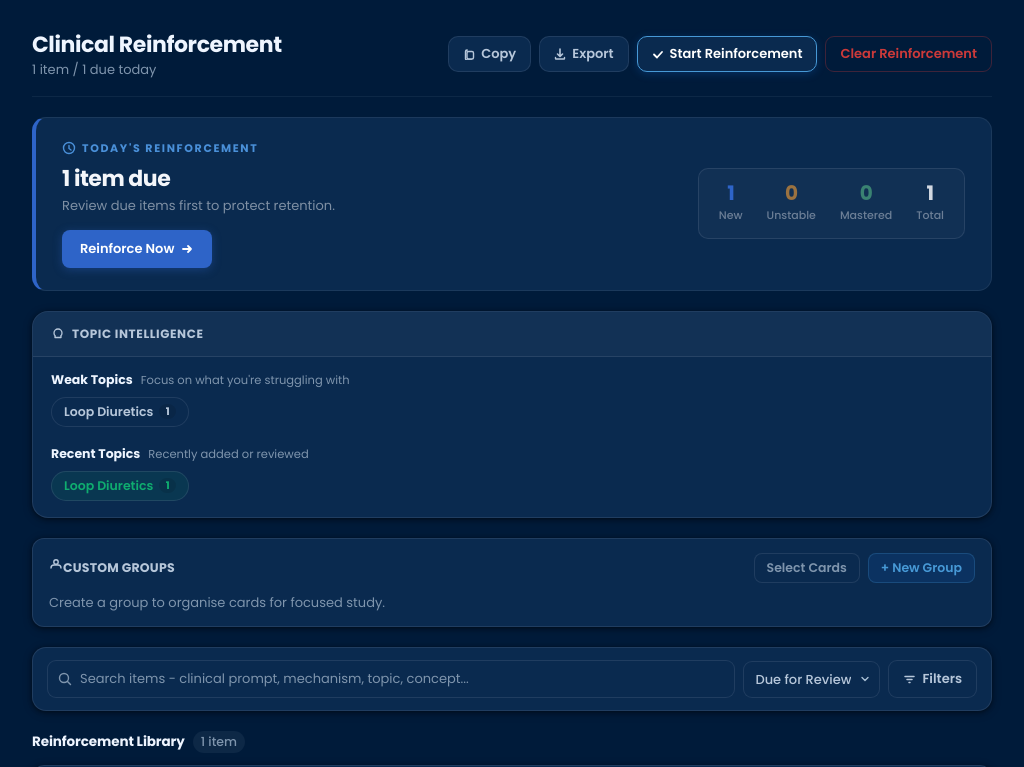
it: FlashcardsPage - ease buttons after reveal › shows "Core Mechanism" answer label
Click the button "Reinforce Now": (137, 249) [62,230,212,268]
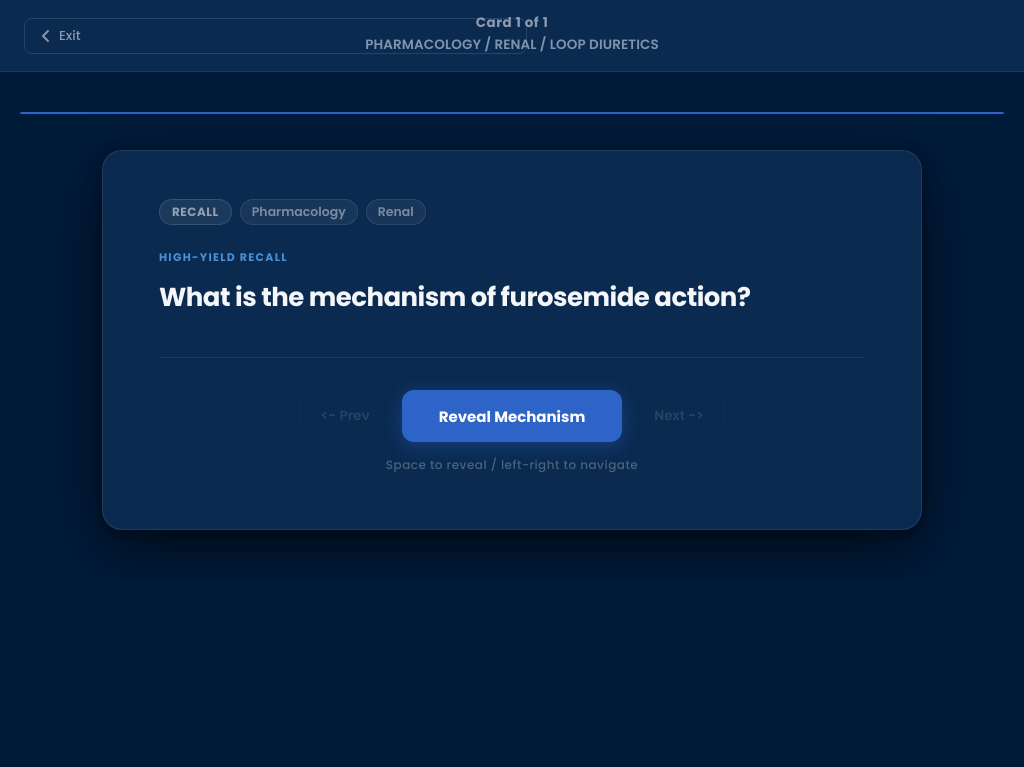
Click the button "Reveal Mechanism": (512, 416) [402,390,622,442]
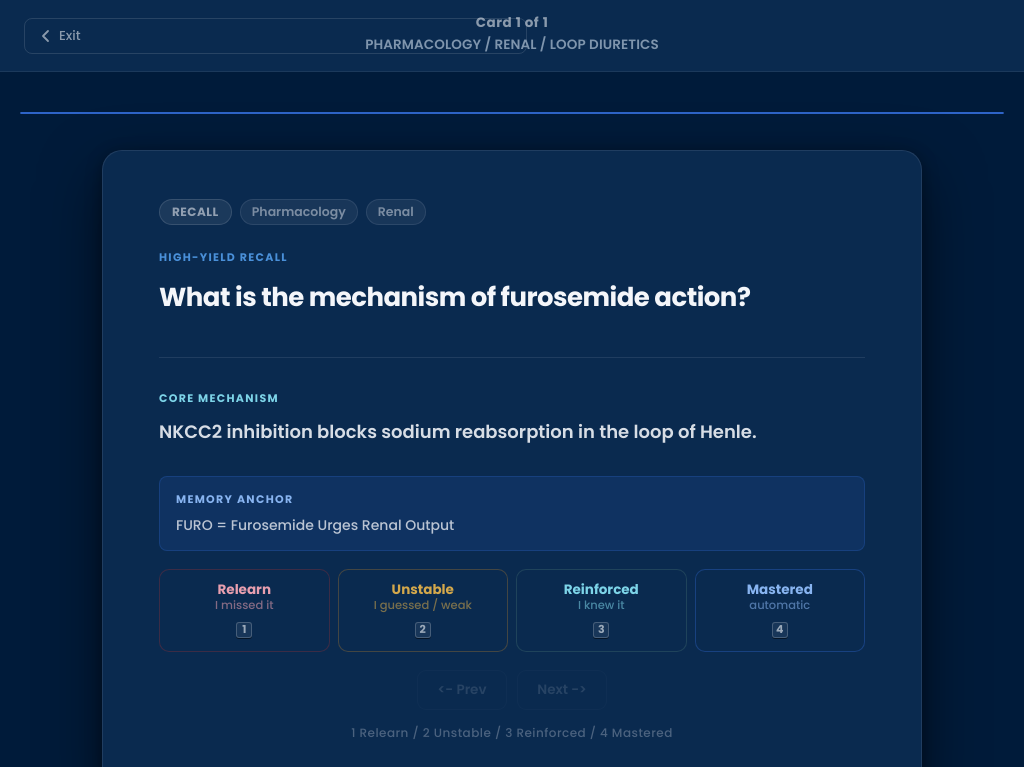
Now the text "Core Mechanism" is shown, box [159,390,279,406]
